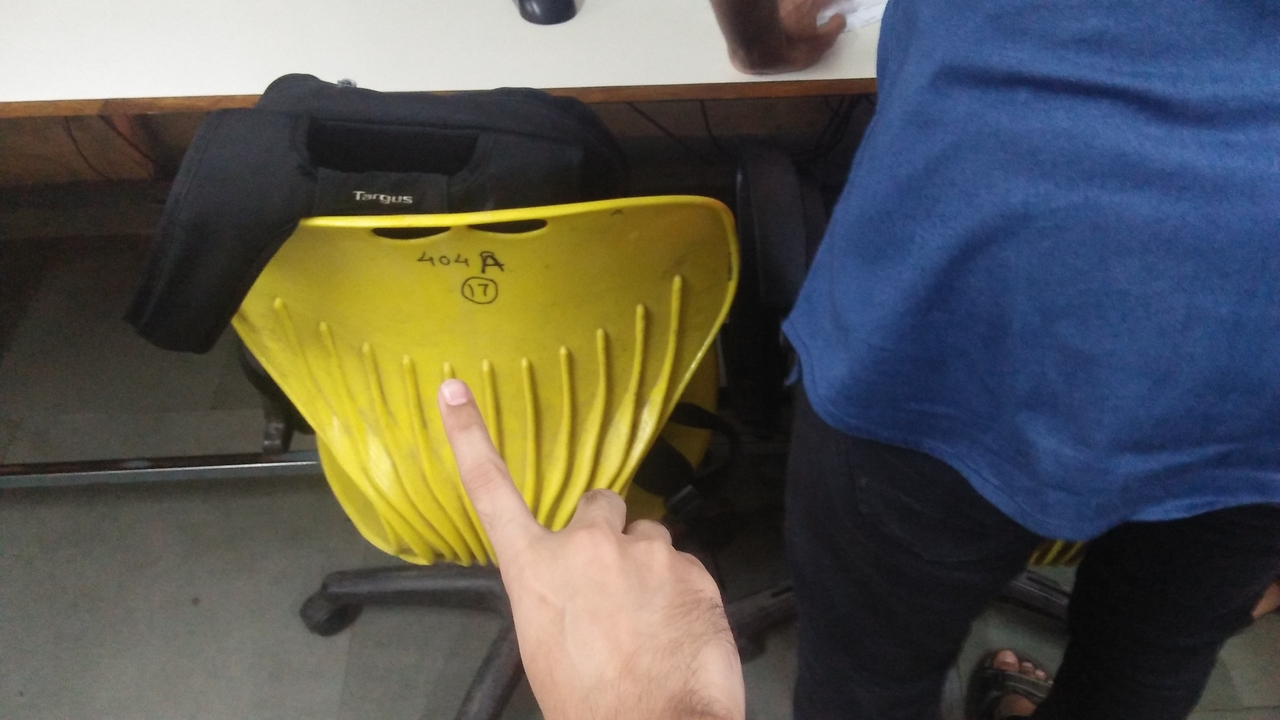fingertip: (426, 364, 486, 430)
